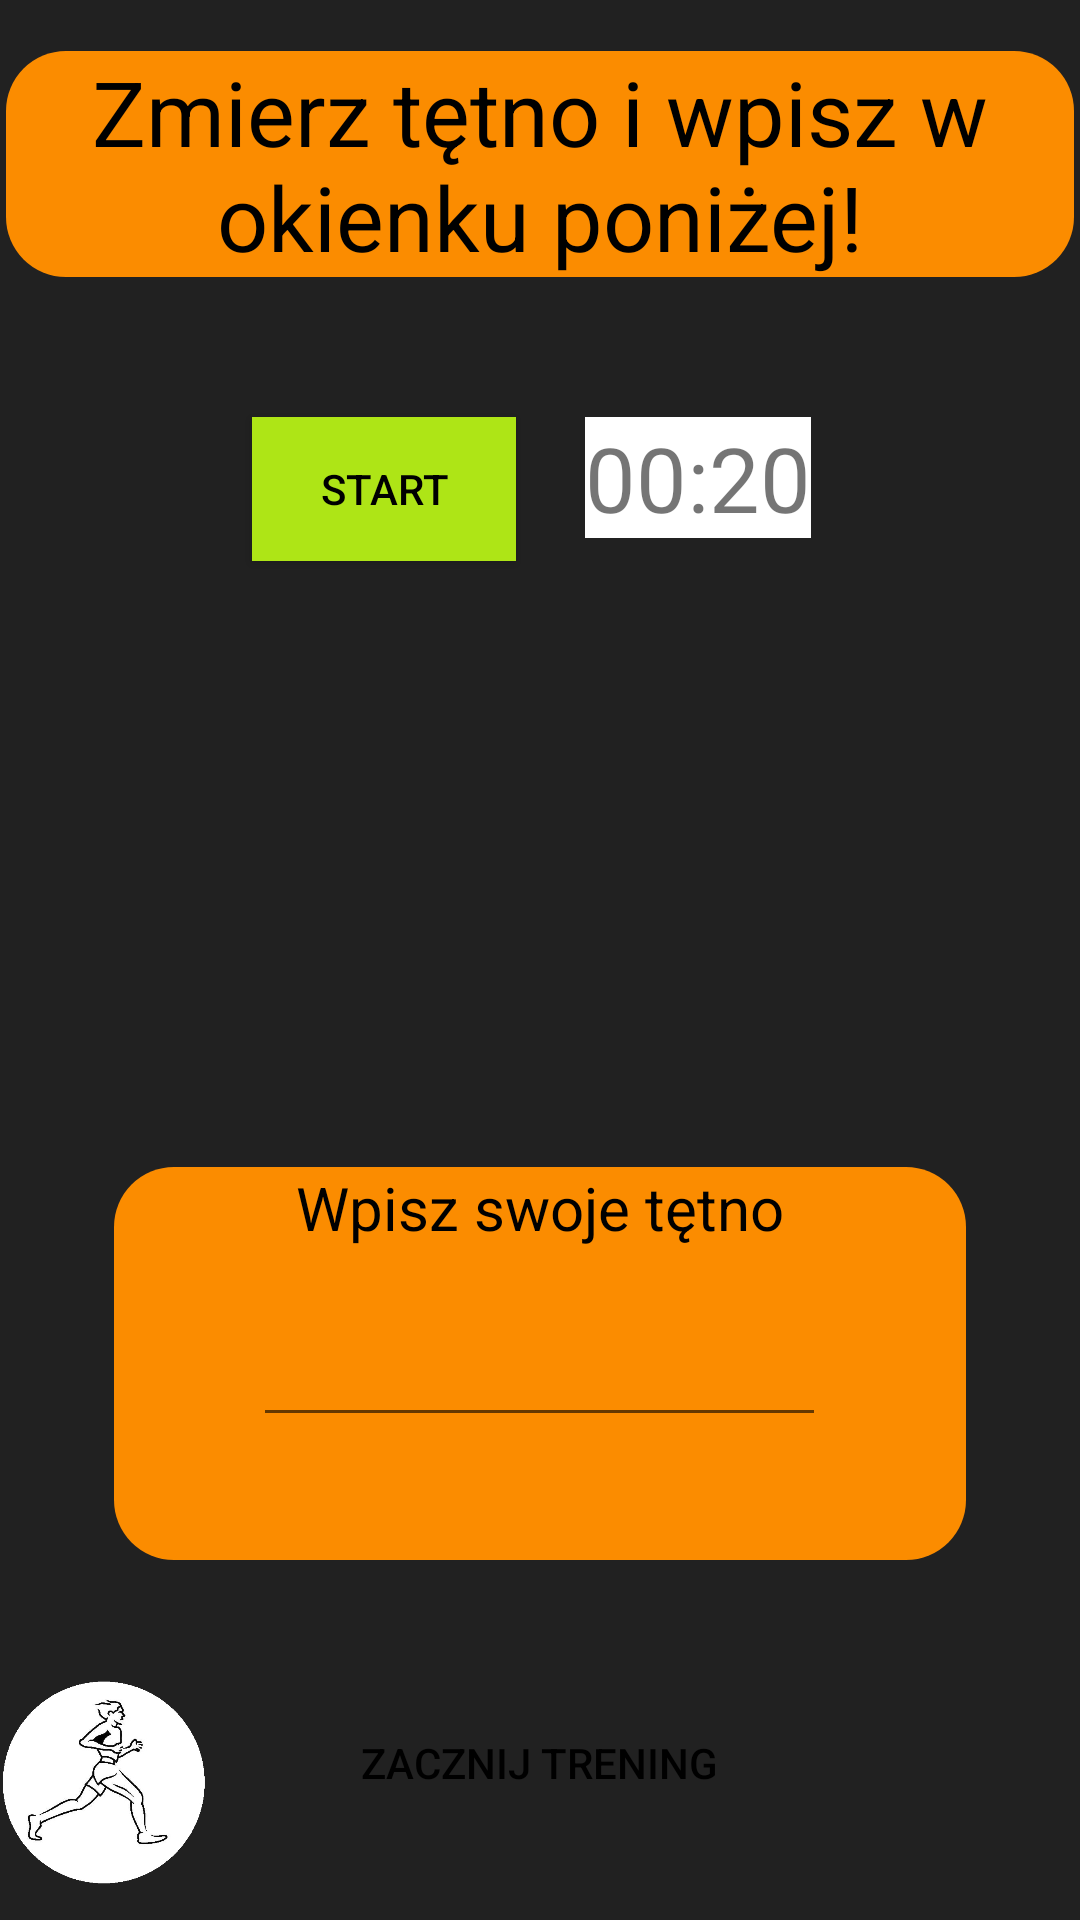

Icons on this 1080px x 1920px Android screen, each with the point to tap as [x,y]:
biegaczz: [104,1782]
